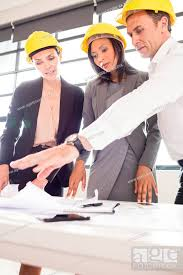Person_wearing_helmet: (79, 21, 118, 59), (25, 26, 57, 67)
